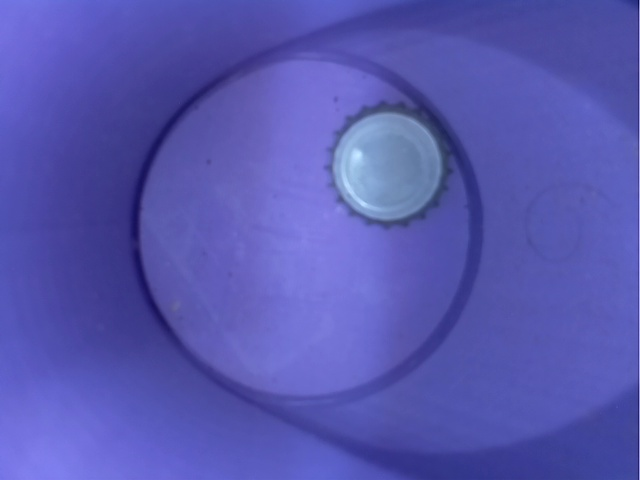capsule: (315, 89, 464, 230)
